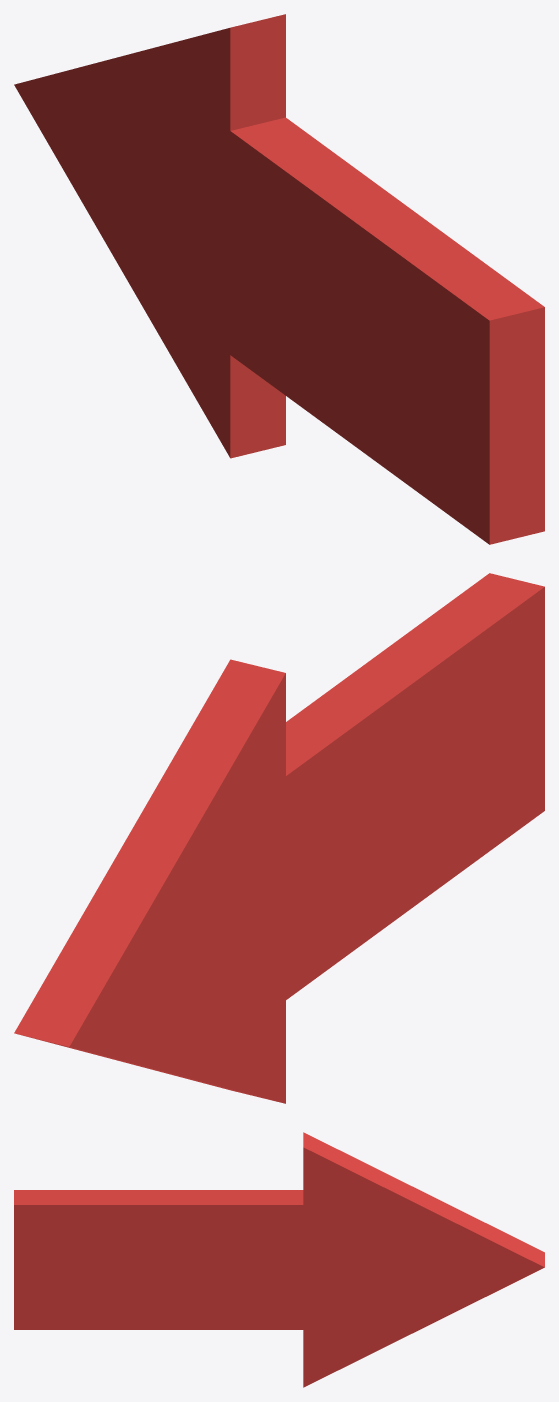
File: The_NUOLI.fbx
3 renders of one model, top to bottom at view 1: azimuth 30°, elevation 25°; view 2: azimuth 150°, elevation 25°; view 3: azimuth 270°, elevation 25°, orthographic. The views are drawn at different scales.
Parts seen in each view (by area): view 1: Cube; view 2: Cube; view 3: Cube.
Part boxes in pixels (x1,y1,x2,y2): Cube: (14,14,544,544); Cube: (14,573,544,1103); Cube: (14,1132,544,1387).
Size of the model in its own units: 24.7 by 183 by 367.
